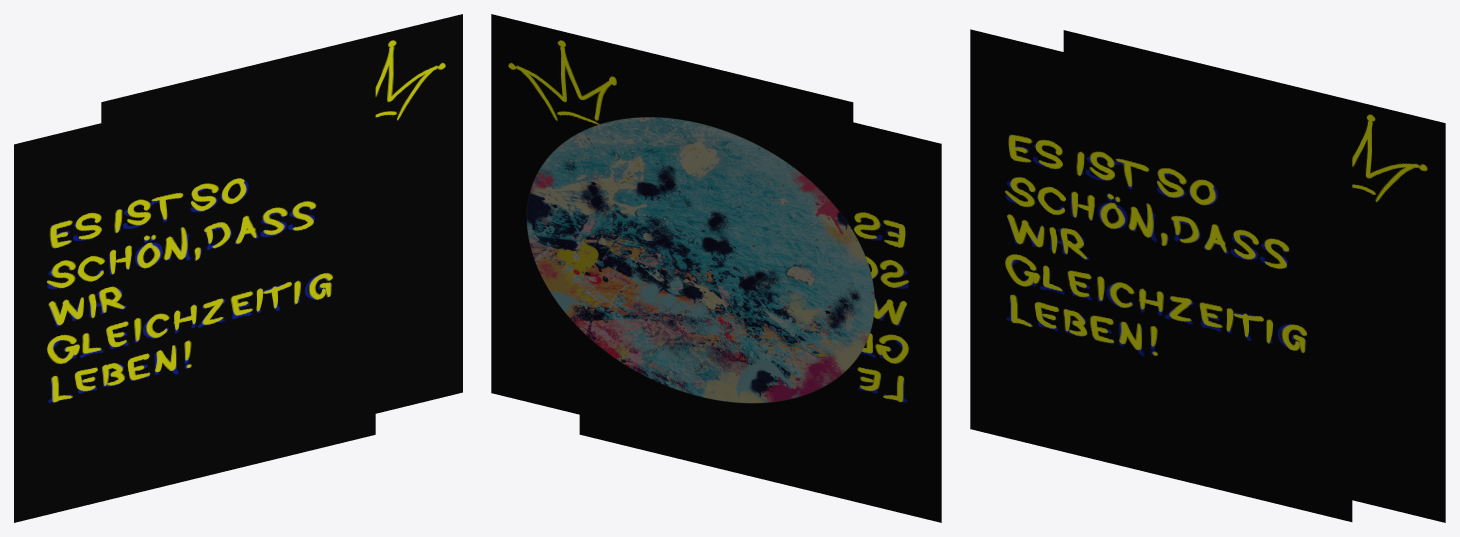
The model's file is queen_krone_gleichzeitig_leben-7.glb.
3 views of the same model, side by side, from view 1: azimuth 30°, elevation 25°; view 2: azimuth 150°, elevation 25°; view 3: azimuth 330°, elevation 25° (orthographic). The views are drawn at different scales.
Parts seen in each view (by area): view 1: Fläche.003, Fläche.002; view 2: Fläche.001, Fläche.002, Fläche.003; view 3: Fläche.003, Fläche.002.
Part boxes in pixels (x1,y1,x2,y2): Fläche.003: (14, 56, 375, 522); Fläche.002: (101, 14, 462, 413); Fläche.001: (526, 117, 874, 403); Fläche.002: (491, 14, 853, 481); Fläche.003: (579, 122, 941, 522); Fläche.003: (970, 29, 1352, 521); Fläche.002: (1063, 30, 1445, 522).
Bounding box in the file's own units: 2.48 × 2.11 × 0.0876.
Materials: 3 (3 with a texture image).
